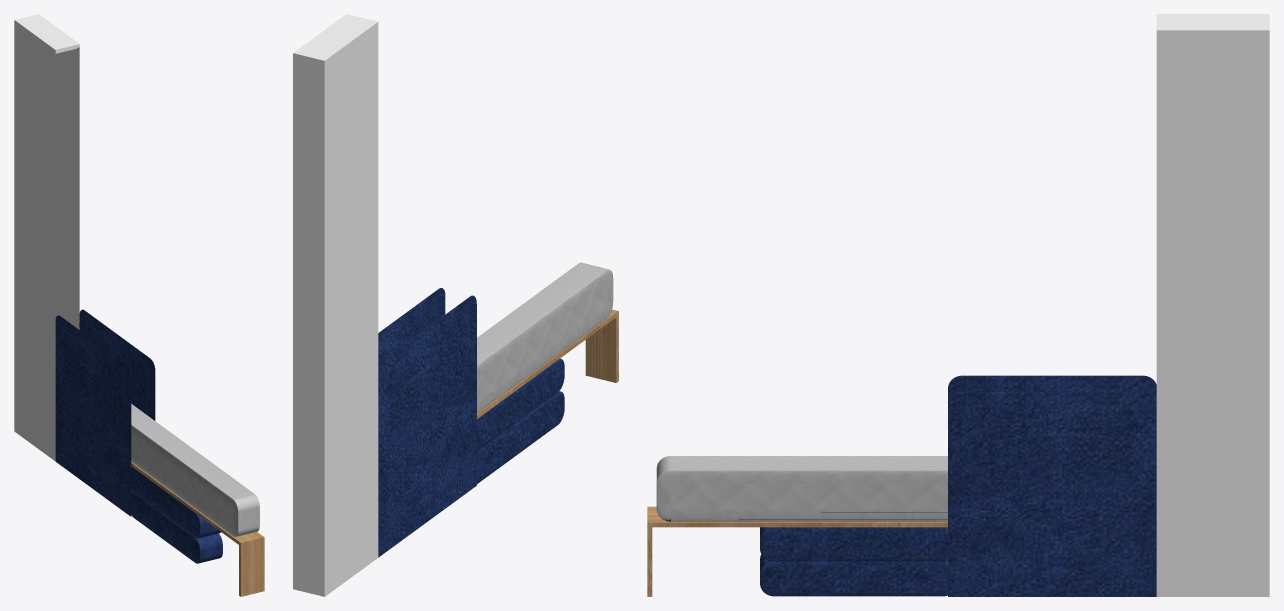
Rendered from opklapbed_zetel.gltf.
3 renders of one model, left to right at view 1: azimuth 30°, elevation 25°; view 2: azimuth 150°, elevation 25°; view 3: azimuth 270°, elevation 25°, orthographic. The views are drawn at different scales.
Visible parts, largest first — view 1: opklapbed_zetel; view 2: opklapbed_zetel; view 3: opklapbed_zetel.
Boxes of the visible parts, box(x1,y1,x2,y2) form: opklapbed_zetel: box(14, 14, 264, 596); opklapbed_zetel: box(293, 14, 618, 596); opklapbed_zetel: box(647, 14, 1269, 596).
Bounding box in the file's own units: 137 × 2211 × 2202.
4 materials, 3 textured.
